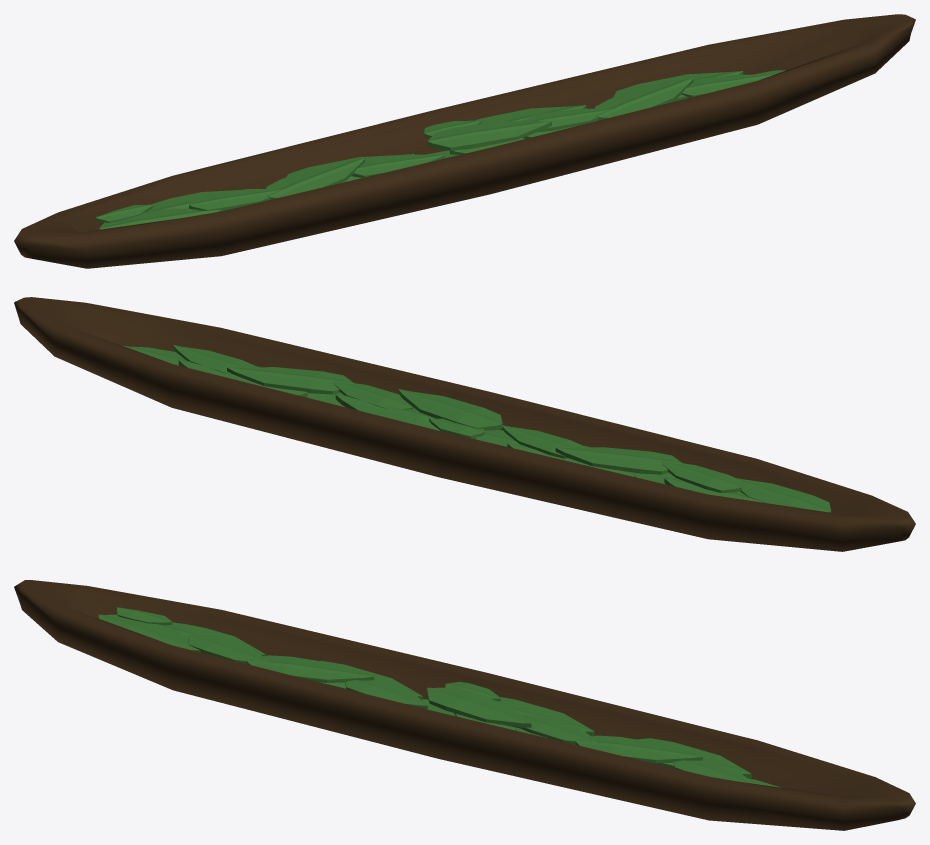
Rendered from marche2.gltf.
3 renders of one model, top to bottom at view 1: azimuth 30°, elevation 25°; view 2: azimuth 150°, elevation 25°; view 3: azimuth 330°, elevation 25°, orthographic.
Visible parts, largest first — view 1: Cube.046; view 2: Cube.046; view 3: Cube.046.
Part boxes in pixels (bbox=[...]): Cube.046: bbox=[14, 14, 915, 268]; Cube.046: bbox=[14, 297, 915, 551]; Cube.046: bbox=[14, 580, 915, 830].
Bounding box in the file's own units: 8.07 × 0.4815 × 0.849.
